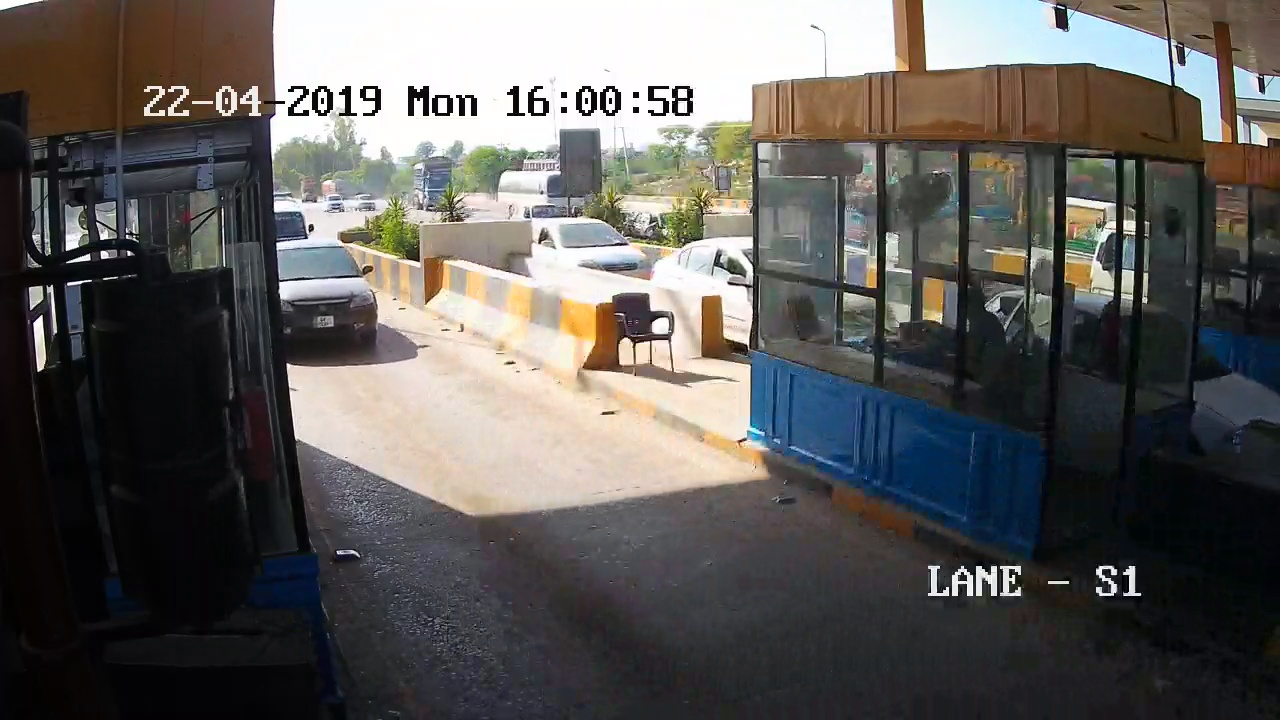car: (277, 233, 403, 394)
